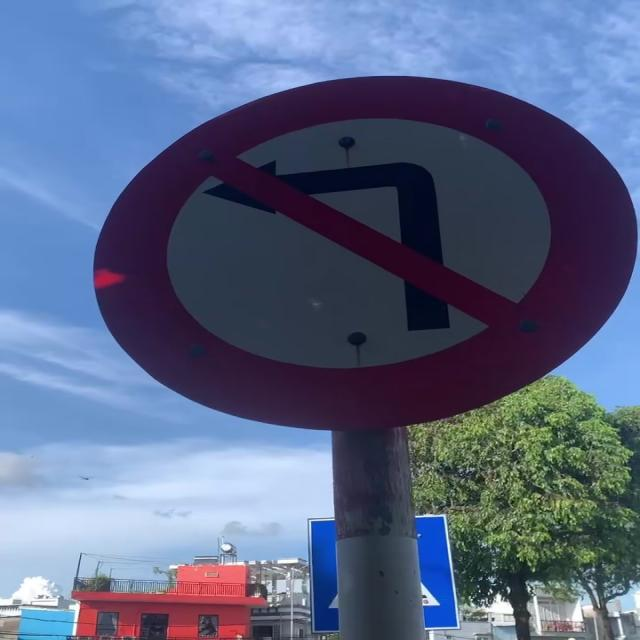Cam_Re_Trai: (92, 73, 634, 440)
